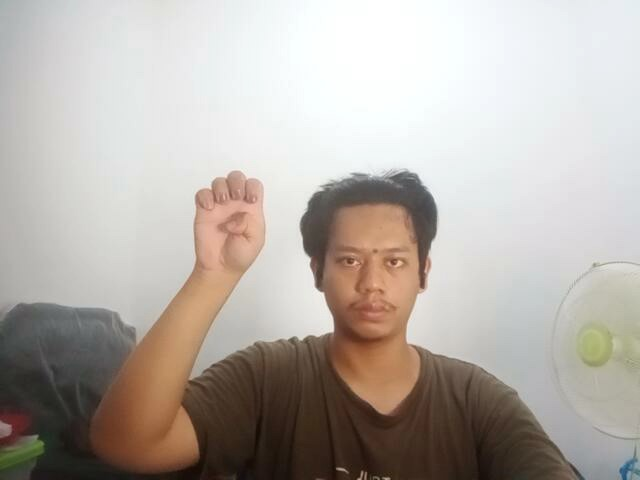E: (176, 156, 282, 283)
